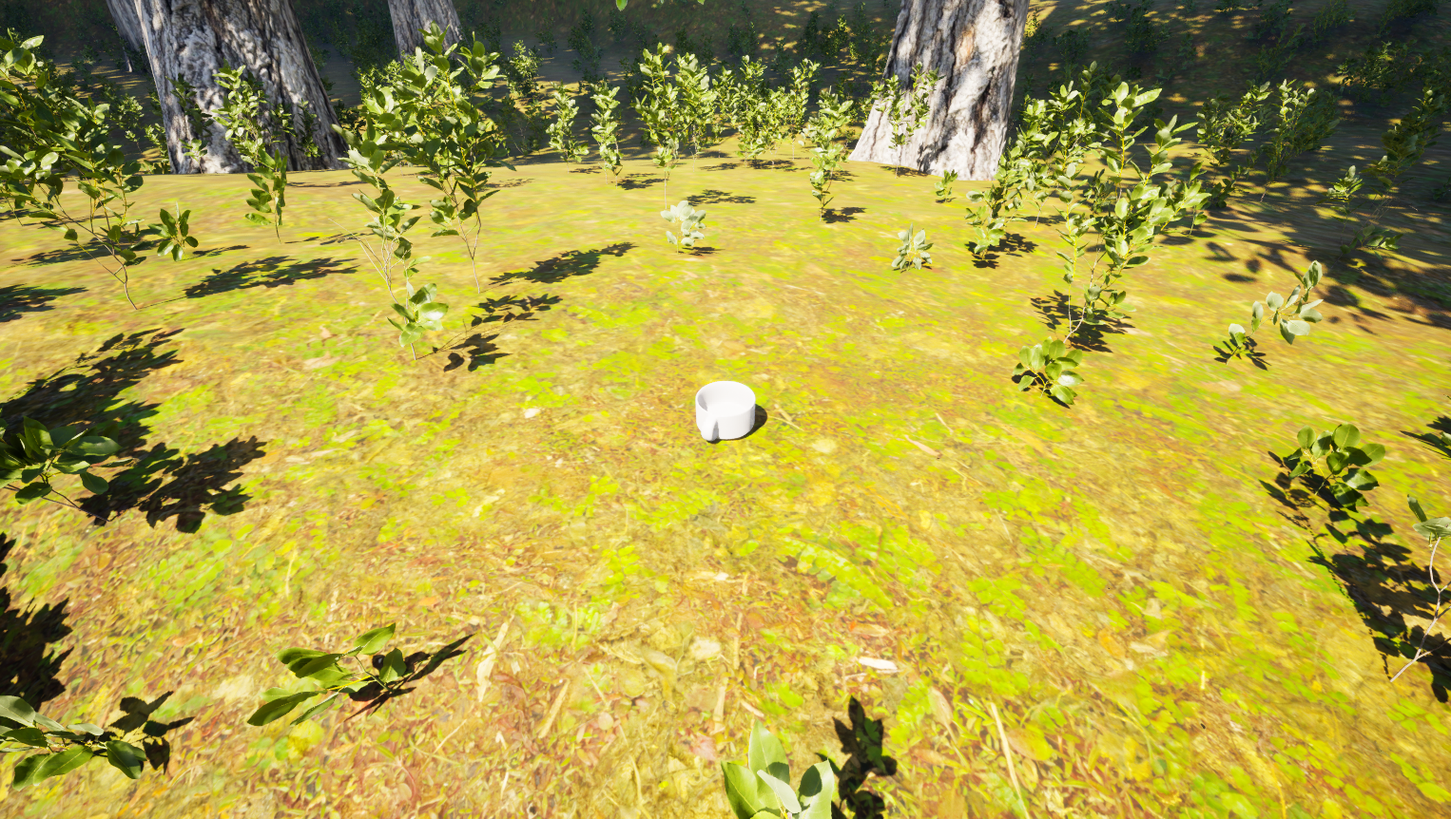Teacup: (677, 375, 767, 451)
